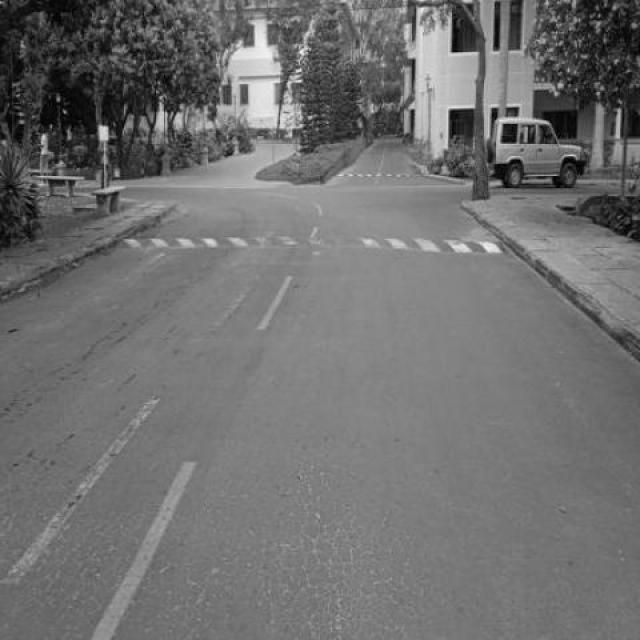Speed Bump: (117, 232, 508, 252)
